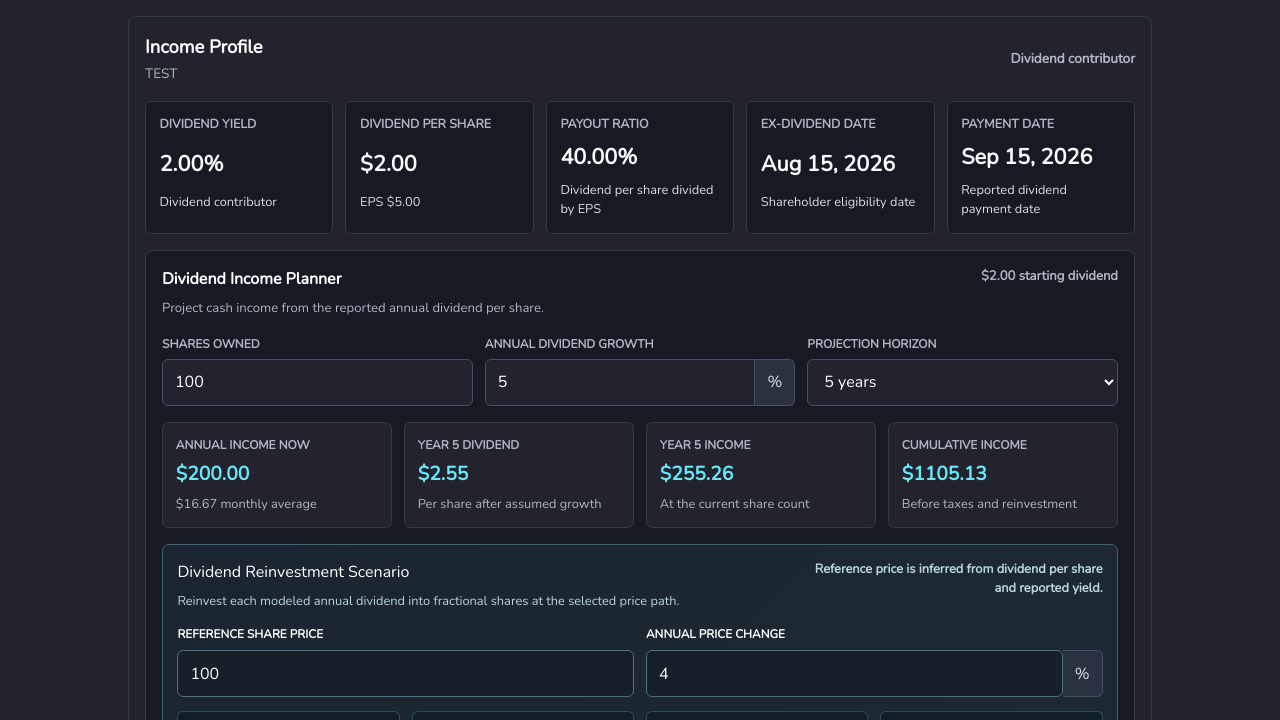
StockIncomePanel › projects dividend income from the selected share count
This screenshot has width=1280, height=720.
Expected: the text "$200.00" is shown, [176,461,249,487]
Replace the text in the number field labelled "Shares Owned" with "50". click: [317, 382]
box: [162,359,473,406]
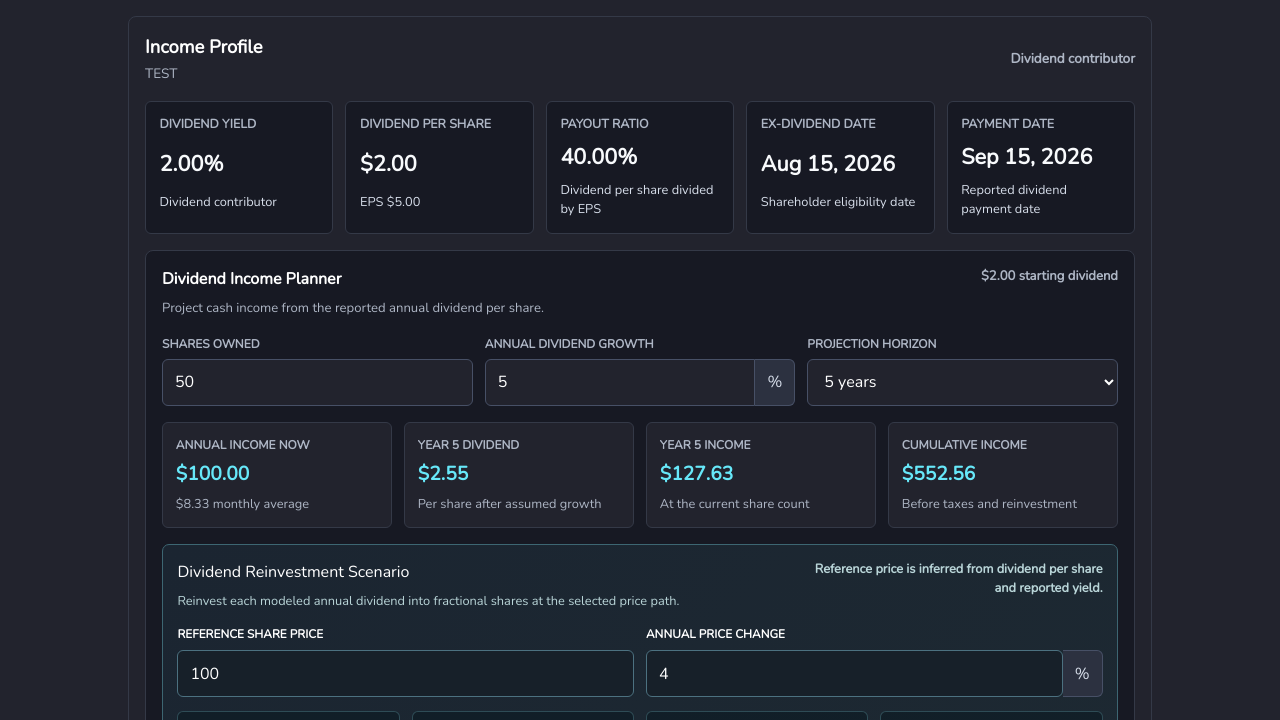
Expected: the text "$100.00" is shown, [176,461,249,487]
Expected: the text "$8.33 monthly average" is shown, [176,495,309,513]
